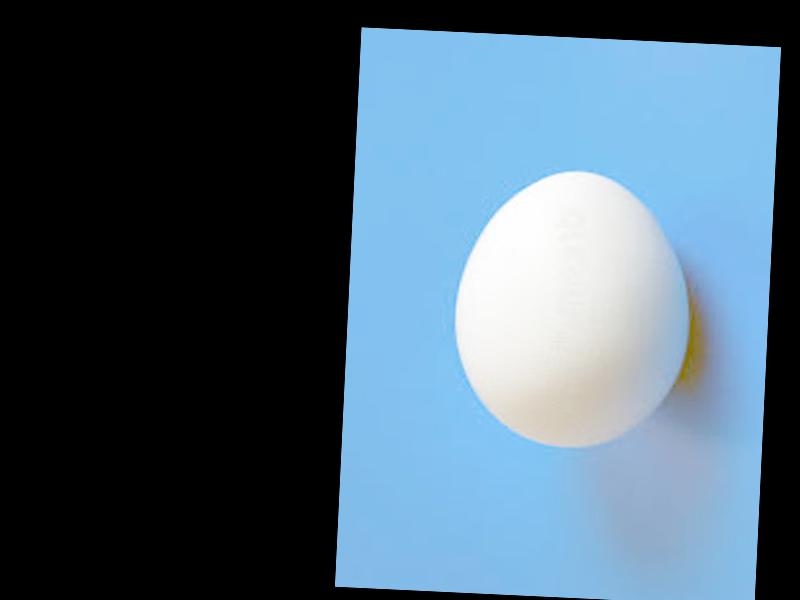Eggs: (450, 163, 697, 454)
